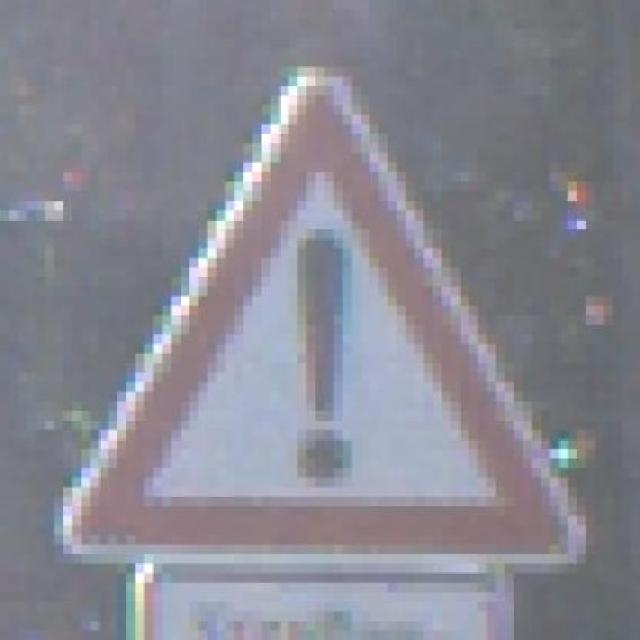Attention Please-: (44, 48, 596, 583)
